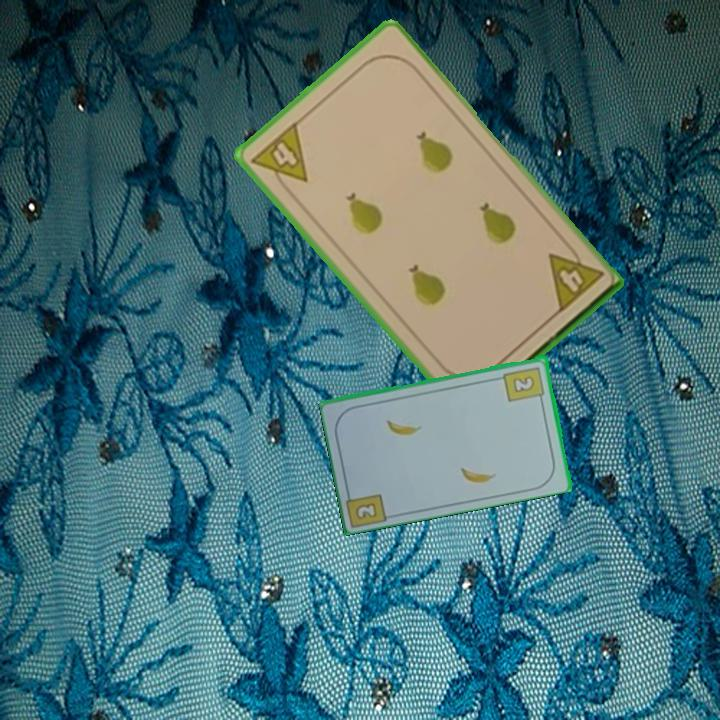2b: (501, 363, 547, 405), (354, 499, 380, 521)
4p: (247, 118, 311, 198), (544, 238, 606, 315)
